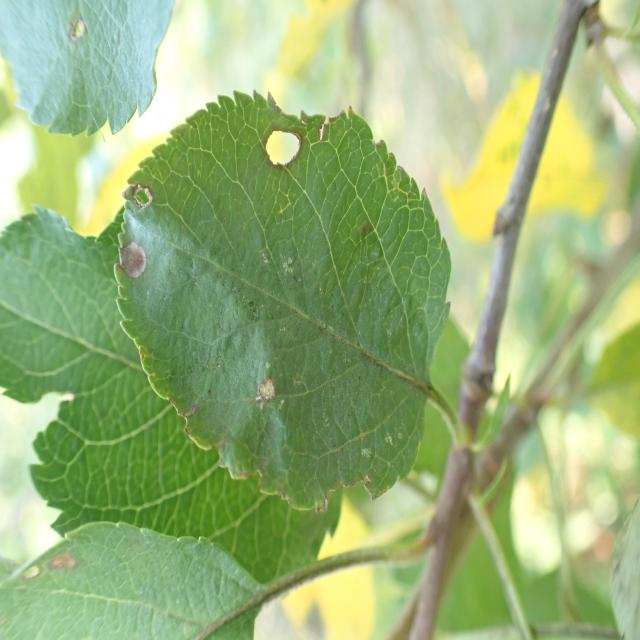frog-eye-leaf-spot: (113, 89, 453, 512), (0, 0, 175, 139)
